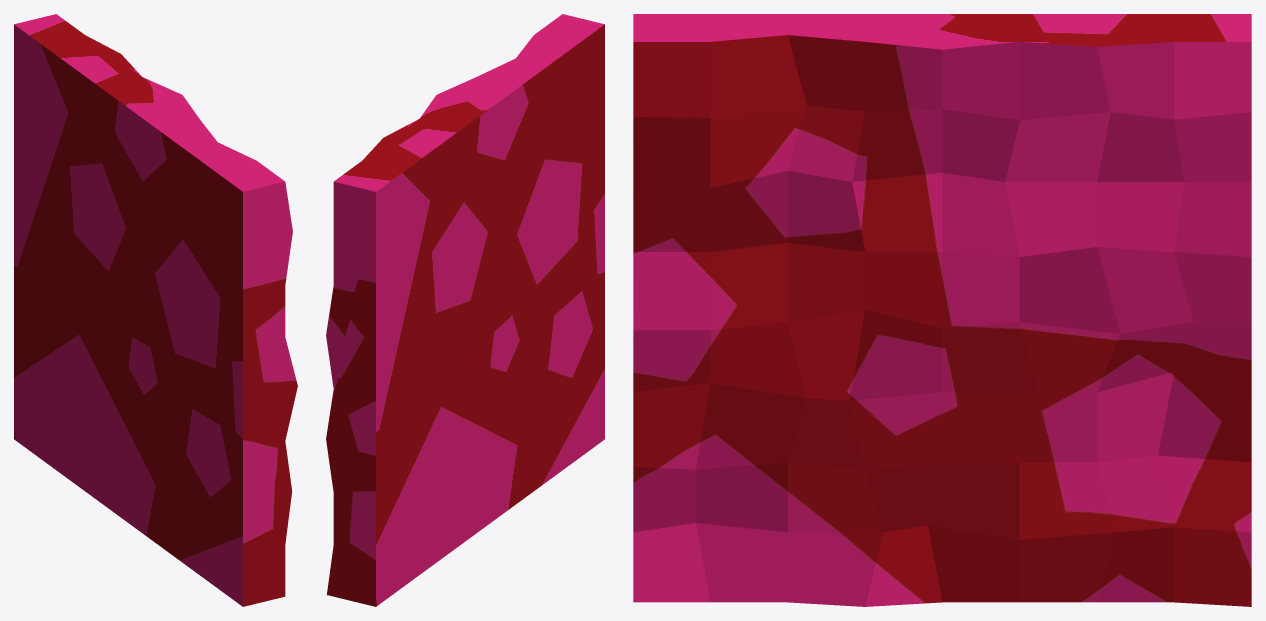
Rendered from Wall.fbx.
3 views of the same model, side by side, from view 1: azimuth 30°, elevation 25°; view 2: azimuth 150°, elevation 25°; view 3: azimuth 270°, elevation 25° (orthographic). The views are drawn at different scales.
Visible parts, largest first — view 1: Wall; view 2: Wall; view 3: Wall.
Boxes of the visible parts, box(x1,y1,x2,y2) form: Wall: box(14, 14, 297, 606); Wall: box(326, 14, 604, 606); Wall: box(633, 14, 1251, 606).
Size of the model in its own units: 4153 by 30000 by 30000.
